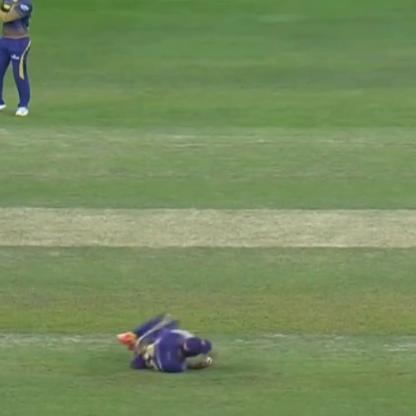ball: (203, 352, 215, 364)
